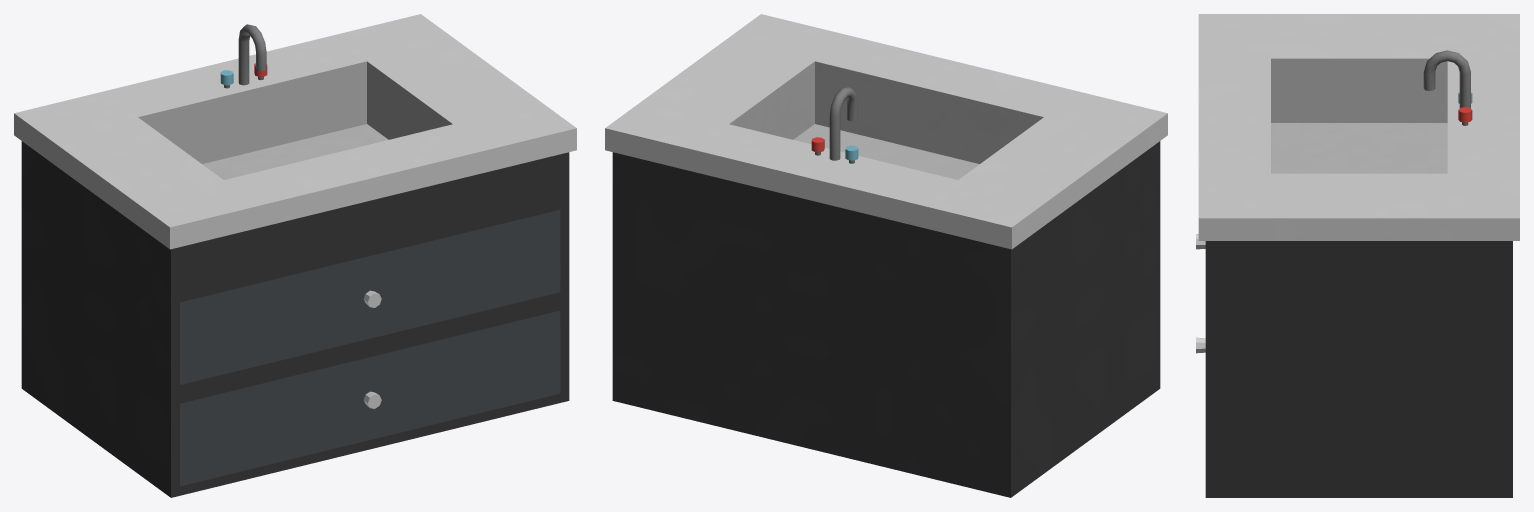
The model's file is Toilet_Sink_01.fbx.
3 renders of one model, left to right at view 1: azimuth 30°, elevation 25°; view 2: azimuth 150°, elevation 25°; view 3: azimuth 270°, elevation 25°, orthographic. The views are drawn at different scales.
Parts seen in each view (by area): view 1: Toilet_Sink_01, Toilet_Sink_01_Drawer, Toilet_Sink_01_Drawer.001; view 2: Toilet_Sink_01; view 3: Toilet_Sink_01.
Boxes of the visible parts, x1,y1,x2,y2 form: Toilet_Sink_01: (14, 14, 576, 497); Toilet_Sink_01_Drawer: (180, 210, 560, 384); Toilet_Sink_01_Drawer.001: (180, 310, 560, 485); Toilet_Sink_01: (605, 14, 1167, 497); Toilet_Sink_01: (1198, 14, 1519, 497).
Size of the model in its own units: 1.32 by 1.05 by 0.8854.
